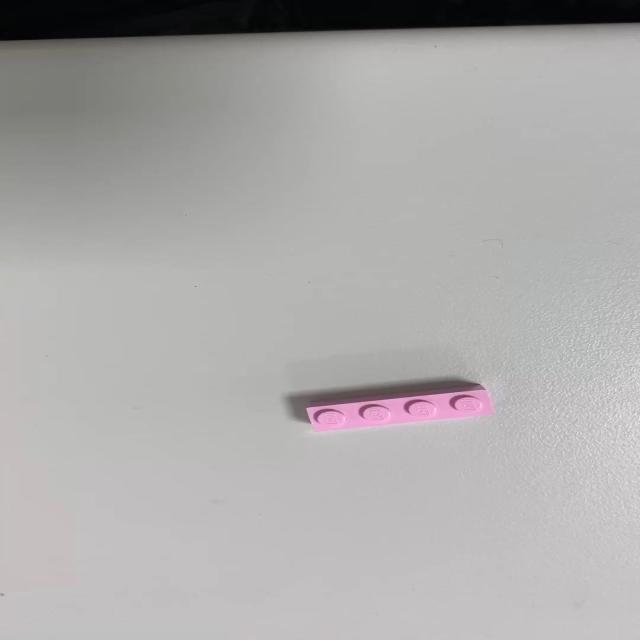C4x1x1: (302, 382, 493, 432)
